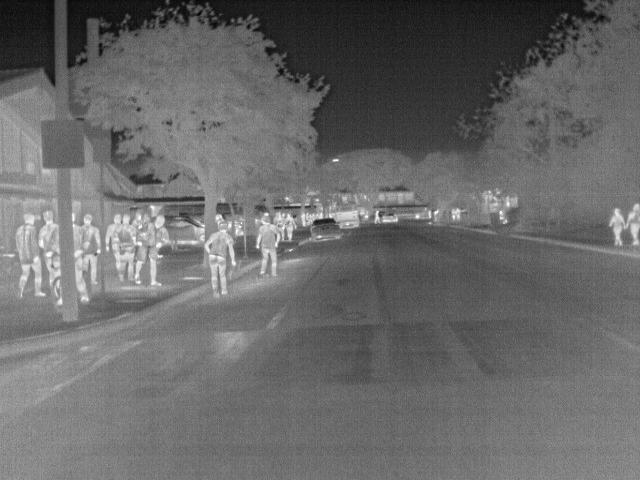car: (164, 213, 206, 248), (309, 214, 343, 244), (379, 209, 400, 226)
person: (14, 208, 49, 297), (132, 213, 168, 288), (203, 221, 237, 299), (34, 209, 62, 295), (77, 211, 101, 288), (255, 215, 284, 276), (115, 213, 136, 283), (103, 212, 123, 254), (608, 208, 627, 250), (627, 204, 639, 252), (283, 212, 298, 243), (497, 209, 510, 225), (455, 206, 463, 220)
